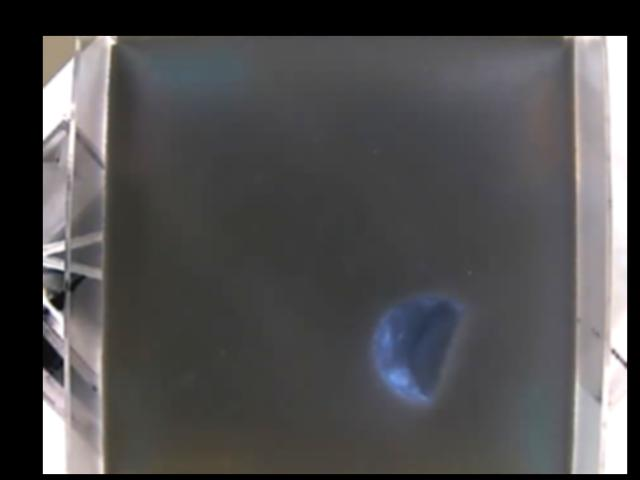Mooli: (372, 295, 461, 404)
